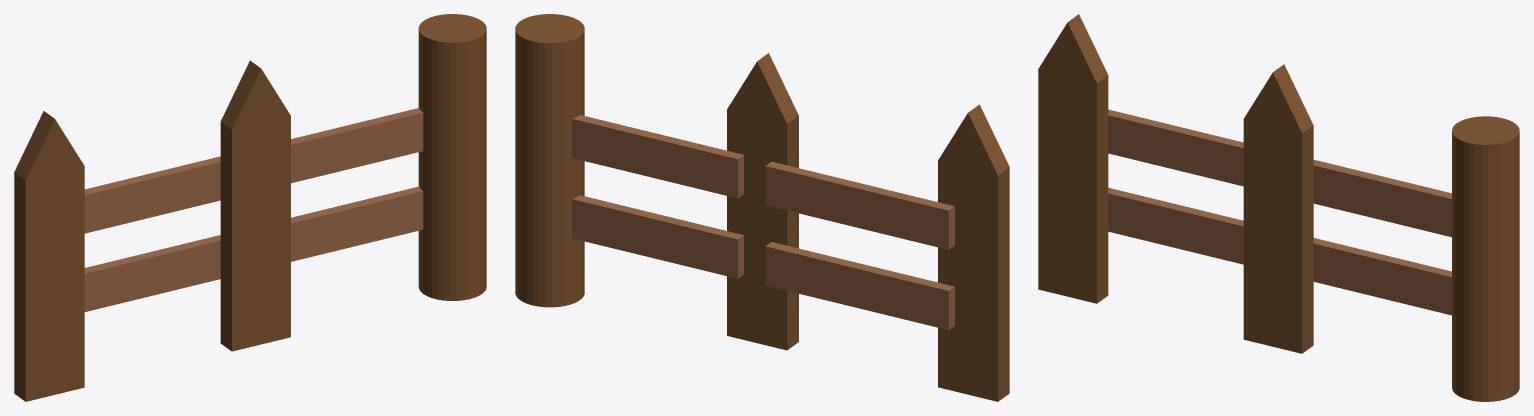
The model's file is wallFR.glb.
The picture shows the model from 3 angles, left to right: view 1: azimuth 30°, elevation 25°; view 2: azimuth 150°, elevation 25°; view 3: azimuth 330°, elevation 25°; orthographic projection. The views are drawn at different scales.
Visible parts, largest first — view 1: Cylinder, Plane.029, Plane.012, Plane.014, Plane.013, Plane.030, Plane.031; view 2: Cylinder, Plane.012, Plane.029, Plane.014, Plane.013, Plane.030, Plane.031; view 3: Cylinder, Plane.029, Plane.012, Plane.031, Plane.030, Plane.013, Plane.014.
Part boxes in pixels (x1=…): Cylinder: x1=418, y1=14, x2=486, y2=300; Plane.029: x1=220, y1=60, x2=290, y2=351; Plane.012: x1=14, y1=111, x2=84, y2=401; Plane.014: x1=84, y1=156, x2=220, y2=233; Plane.013: x1=84, y1=235, x2=220, y2=311; Plane.030: x1=291, y1=186, x2=423, y2=261; Plane.031: x1=291, y1=108, x2=423, y2=183; Cylinder: x1=515, y1=14, x2=584, y2=307; Plane.012: x1=938, y1=104, x2=1009, y2=401; Plane.029: x1=727, y1=53, x2=798, y2=350; Plane.014: x1=765, y1=161, x2=954, y2=249; Plane.013: x1=765, y1=242, x2=954, y2=330; Plane.030: x1=572, y1=195, x2=743, y2=278; Plane.031: x1=572, y1=115, x2=743, y2=198; Cylinder: x1=1452, y1=116, x2=1519, y2=401; Plane.029: x1=1243, y1=64, x2=1313, y2=353; Plane.012: x1=1038, y1=14, x2=1108, y2=303; Plane.031: x1=1313, y1=159, x2=1451, y2=237; Plane.030: x1=1313, y1=238, x2=1451, y2=315; Plane.013: x1=1108, y1=187, x2=1243, y2=264; Plane.014: x1=1108, y1=109, x2=1243, y2=186.
Bounding box in the file's own units: 2.27 × 1.28 × 0.286.
